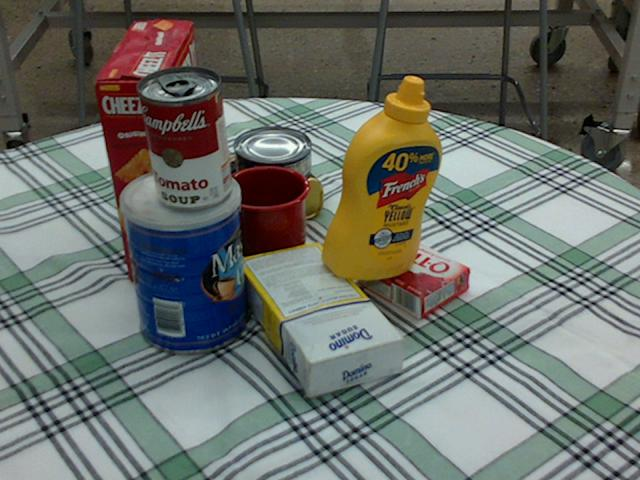cracker_box: (92, 23, 211, 278)
gelatin_box: (354, 235, 468, 320)
master_chef_can: (118, 166, 249, 355)
mug: (195, 164, 308, 271)
mustard_bottle: (321, 75, 441, 279)
potted_meat_can: (212, 144, 319, 227)
sugar_box: (235, 242, 406, 394)
tomato_soup_can: (137, 65, 230, 208)
tuna_fish_can: (232, 126, 311, 189)
